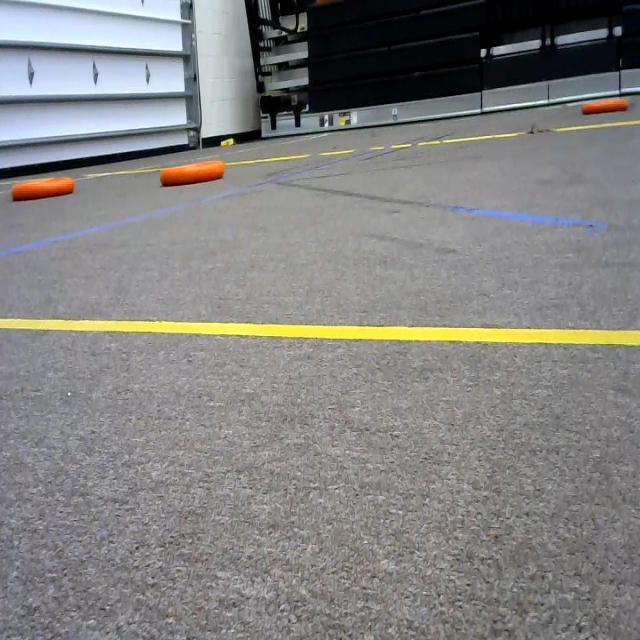note: (12, 169, 78, 200), (156, 162, 229, 188), (577, 92, 632, 116)
